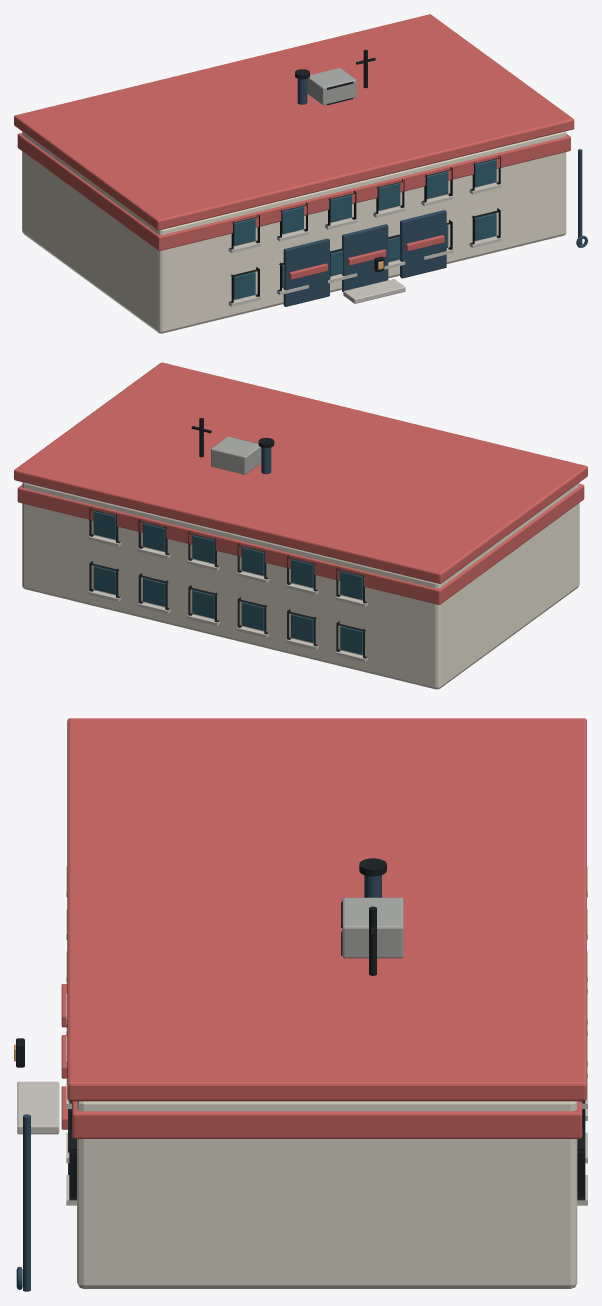
The model's file is CIV_FIRE_3x2_002.glb.
The picture shows the model from 3 angles, top to bottom: view 1: azimuth 30°, elevation 25°; view 2: azimuth 150°, elevation 25°; view 3: azimuth 270°, elevation 25°; orthographic projection. The views are drawn at different scales.
Visible parts, largest first — view 1: CIV_FIRE_3x2_002_Visual; view 2: CIV_FIRE_3x2_002_Visual; view 3: CIV_FIRE_3x2_002_Visual.
Part boxes in pixels (x1,y1,x2,y2): CIV_FIRE_3x2_002_Visual: (14,14,587,333); CIV_FIRE_3x2_002_Visual: (14,362,587,689); CIV_FIRE_3x2_002_Visual: (14,718,587,1291).
Size of what is drawn, in the model's own units: 5.37 by 1.9 by 3.56.
